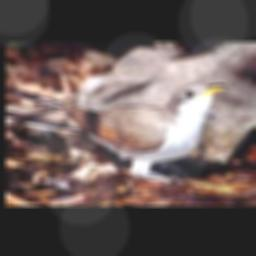Cuckoo: (6, 83, 229, 179)
